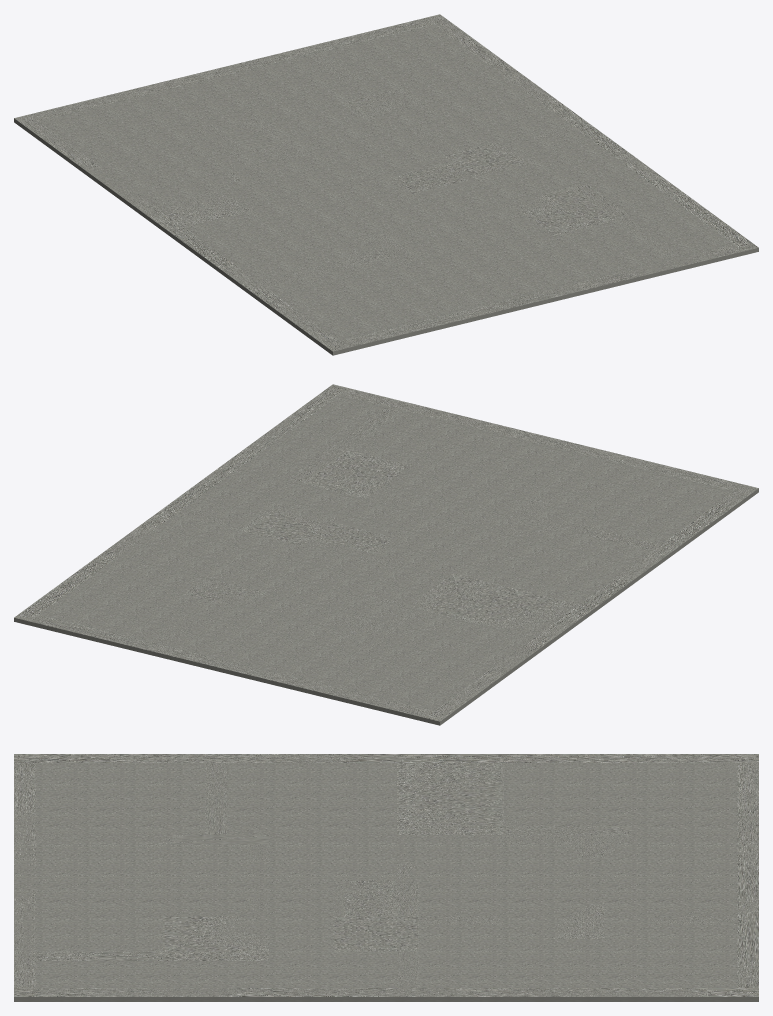
File: UVdMap4Bottom.obj
3 views of the same model, one above another, from view 1: azimuth 30°, elevation 25°; view 2: azimuth 150°, elevation 25°; view 3: azimuth 270°, elevation 25° (orthographic). The views are drawn at different scales.
Visible parts, largest first — view 1: MAPforUOGPCGF; view 2: MAPforUOGPCGF; view 3: MAPforUOGPCGF.
Part boxes in pixels (x1,y1,x2,y2): MAPforUOGPCGF: [14, 14, 758, 355]; MAPforUOGPCGF: [14, 384, 758, 725]; MAPforUOGPCGF: [14, 754, 758, 1001].
Size of the model in its own units: 108 by 1 by 140.
2 materials, 2 textured.
